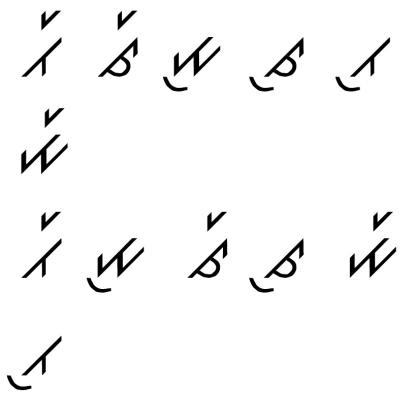bar: (11, 206, 66, 280), (18, 9, 64, 80)
baw: (329, 27, 393, 98), (5, 325, 67, 391)
car: (92, 8, 144, 80), (187, 210, 231, 286)
caw: (240, 30, 306, 100), (245, 226, 307, 298)
mar: (342, 204, 402, 280), (11, 106, 72, 176)
maw: (80, 229, 149, 294), (156, 31, 222, 96)
